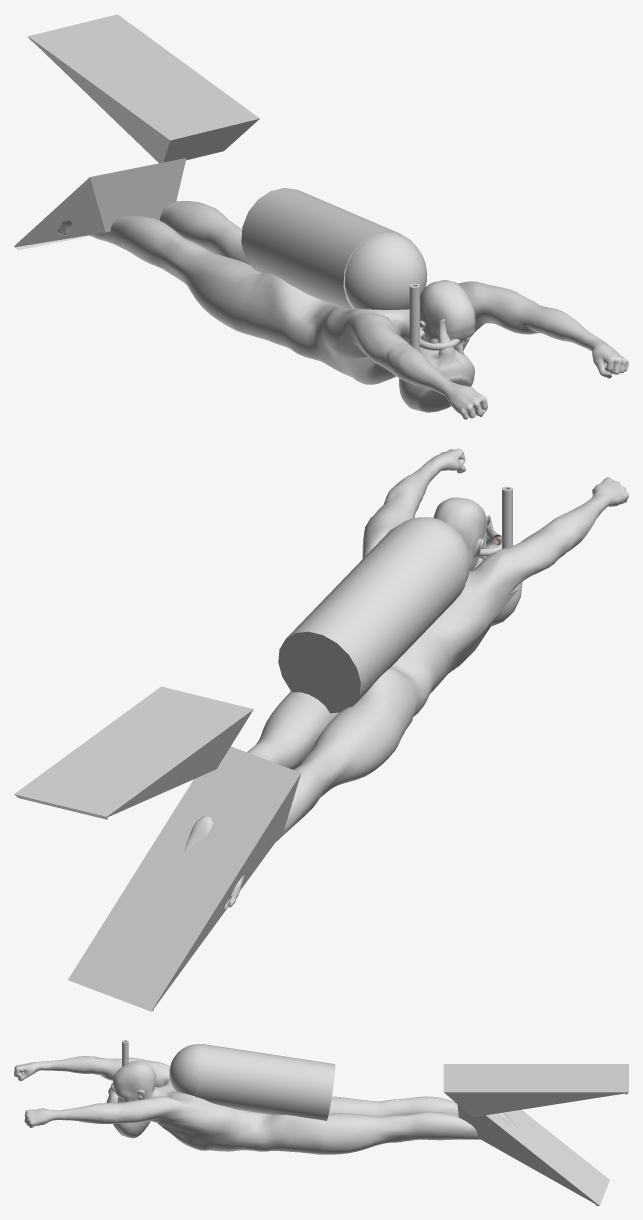
The model's file is ScubaDiver.fbx.
The picture shows the model from 3 angles, top to bottom: view 1: azimuth 30°, elevation 25°; view 2: azimuth 150°, elevation 25°; view 3: azimuth 270°, elevation 25°; orthographic projection. The views are drawn at different scales.
Visible parts, largest first — view 1: scubadiver-male_generic, Pyramid001, Cylinder001, Pyramid002, Teapot001, Tube001; view 2: scubadiver-male_generic, Pyramid002, Cylinder001, Pyramid001; view 3: scubadiver-male_generic, Cylinder001, Pyramid001, Pyramid002, Teapot001.
Boxes of the visible parts, x1,y1,x2,y2 form: scubadiver-male_generic: (57,201,628,419); Pyramid001: (28,14,259,163); Cylinder001: (241,187,427,310); Pyramid002: (14,158,186,249); Teapot001: (399,319,474,412); Tube001: (409,283,419,351); scubadiver-male_generic: (184,448,628,910); Pyramid002: (68,746,300,1011); Cylinder001: (278,517,470,713); Pyramid001: (14,686,253,819); scubadiver-male_generic: (14,1056,518,1154); Cylinder001: (169,1044,335,1120); Pyramid001: (443,1064,628,1117); Pyramid002: (457,1104,609,1205); Teapot001: (106,1084,150,1138).
Bounding box in the file's own units: 31.34 × 33.91 × 126.
Materials: 1 (1 with a texture image).
